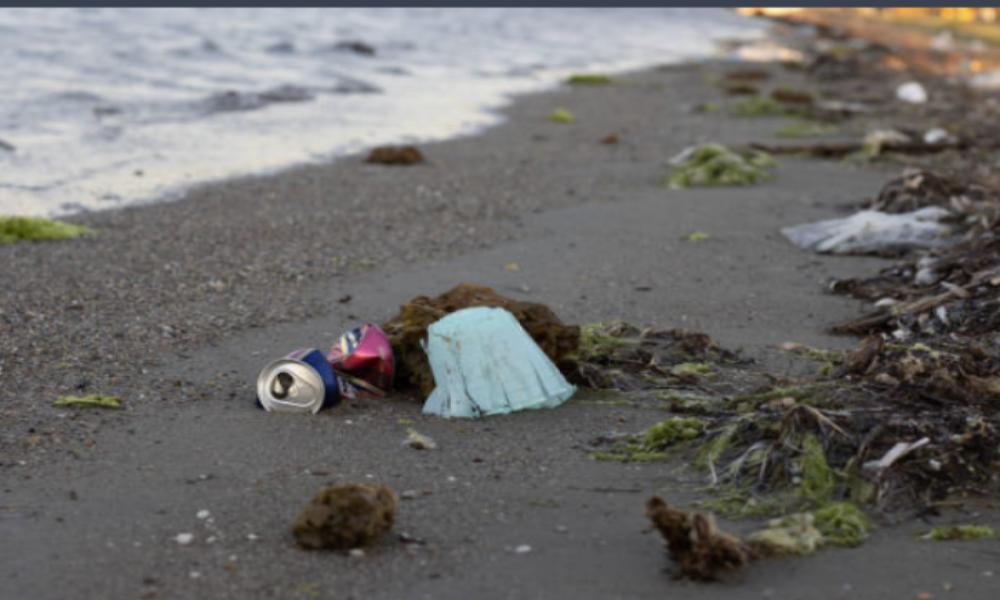can: (252, 312, 405, 418)
plastic bag: (410, 298, 576, 411), (763, 196, 968, 261)
